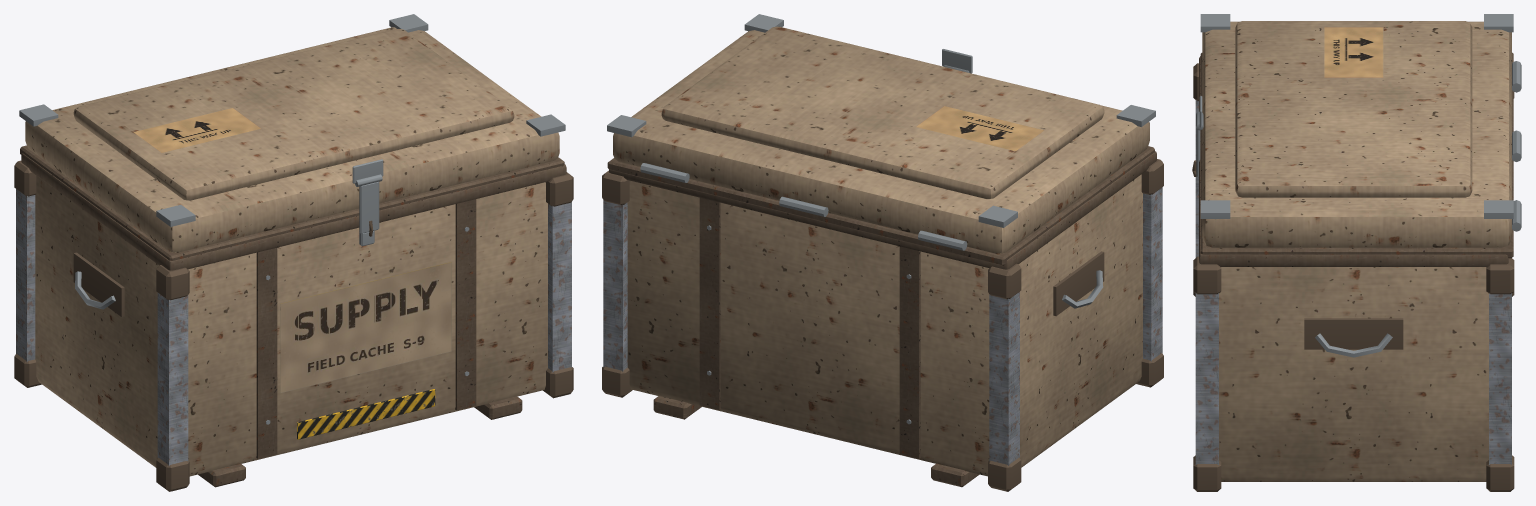
File: loot_cache_saltflat.gltf
The picture shows the model from 3 angles, left to right: view 1: azimuth 30°, elevation 25°; view 2: azimuth 150°, elevation 25°; view 3: azimuth 270°, elevation 25°; orthographic projection. The views are drawn at different scales.
Parts seen in each view (by area): view 1: Cache_Body, Cache_Lid, Cache_Latch; view 2: Cache_Body, Cache_Lid; view 3: Cache_Lid, Cache_Body, Cache_Latch.
Boxes of the visible parts, box(x1,y1,x2,y2) form: Cache_Body: box(14, 153, 573, 491); Cache_Lid: box(19, 14, 565, 260); Cache_Latch: box(352, 159, 383, 236); Cache_Body: box(602, 151, 1163, 491); Cache_Lid: box(607, 14, 1155, 265); Cache_Lid: box(1200, 14, 1521, 258); Cache_Body: box(1193, 56, 1514, 491); Cache_Latch: box(1192, 96, 1203, 177).
Bounding box in the file's own units: 1.51 × 1 × 1.
Materials: 5 (5 with a texture image).
